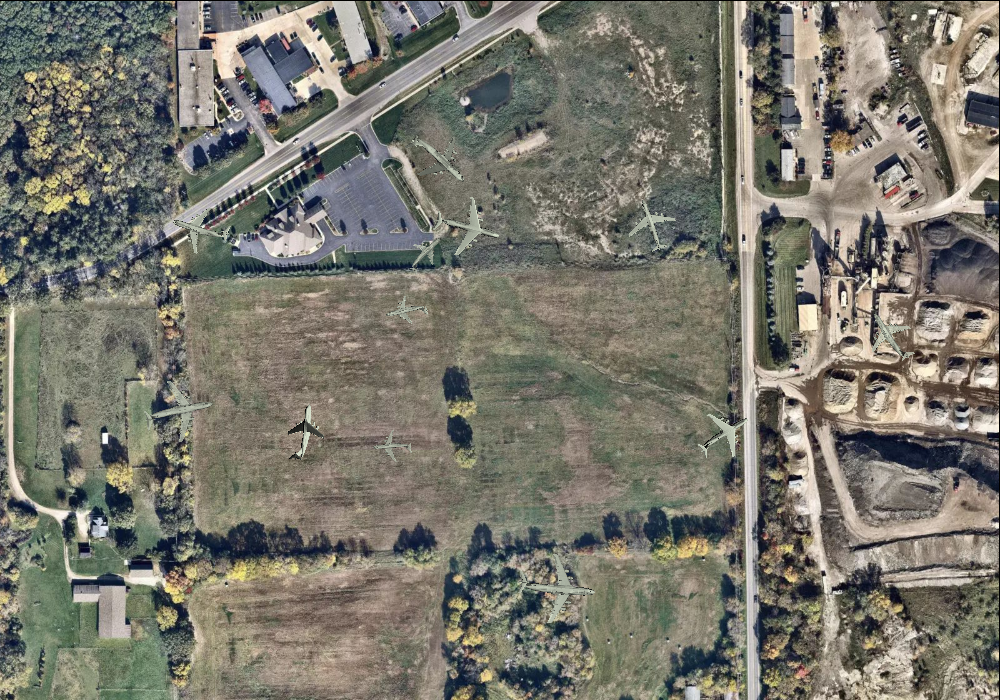plane: (391, 113, 483, 205), (514, 547, 598, 628), (425, 188, 507, 267), (137, 372, 219, 451), (685, 397, 763, 473), (854, 298, 928, 373), (164, 192, 236, 263), (619, 191, 683, 258), (275, 401, 329, 463), (397, 226, 454, 282), (382, 289, 431, 334), (371, 427, 413, 467)
